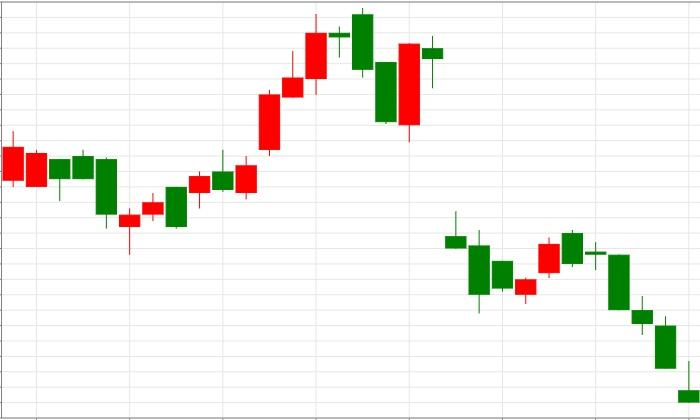bullish_engulfing_rise: (328, 8, 421, 142)
